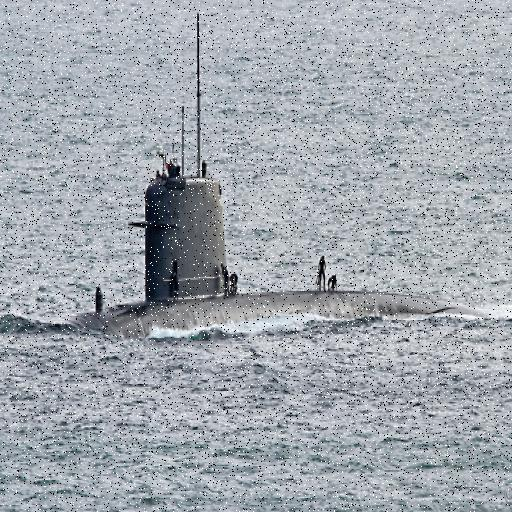submarine: (1, 38, 512, 342)
